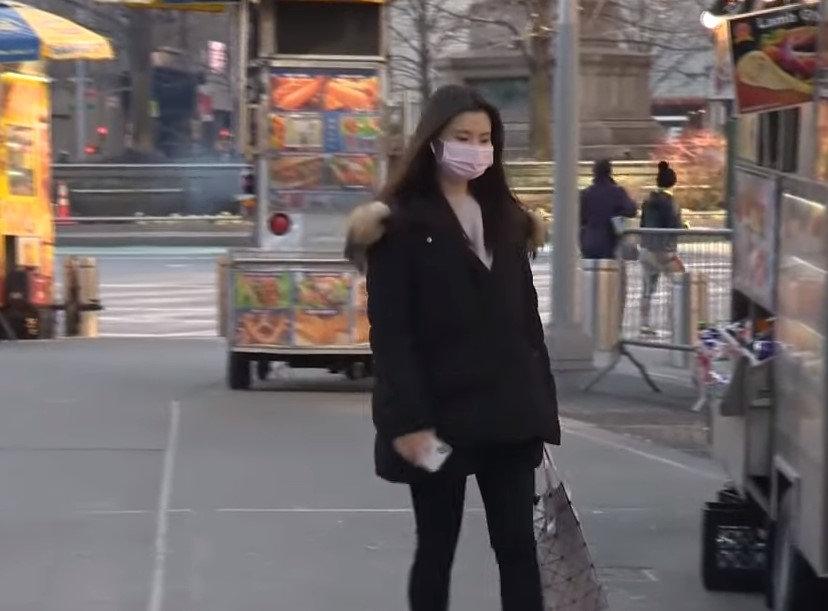face_with_mask: (424, 97, 504, 184)
